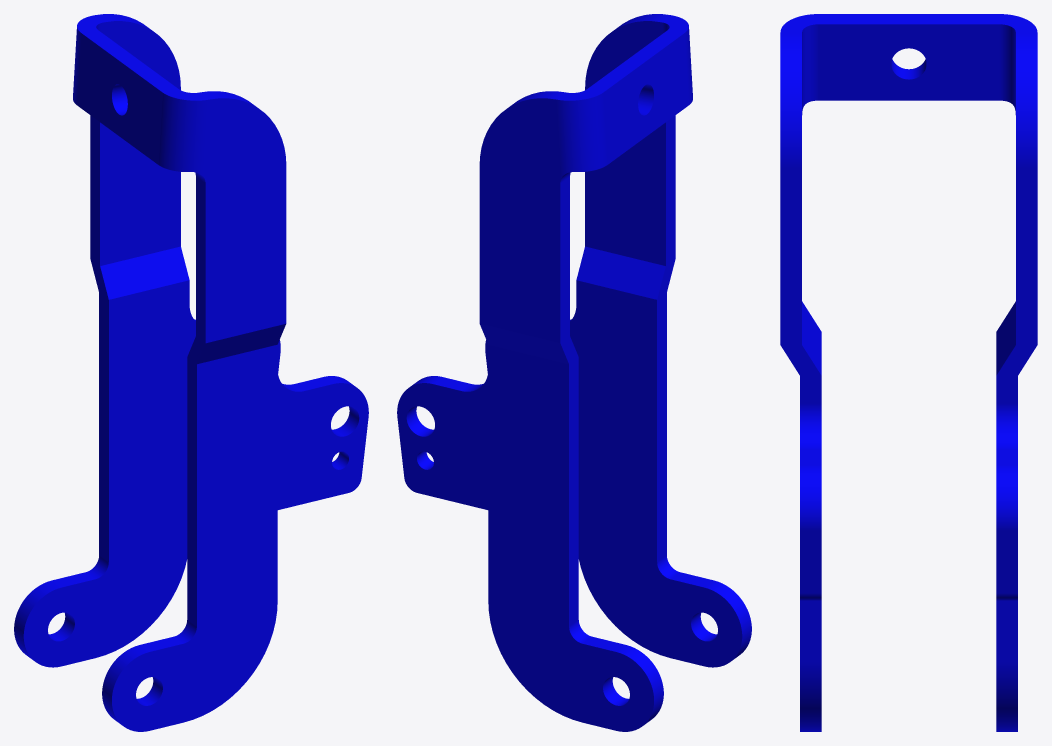
File: CVRTopRetractor.gltf
3 views of the same model, side by side, from view 1: azimuth 30°, elevation 25°; view 2: azimuth 150°, elevation 25°; view 3: azimuth 270°, elevation 25° (orthographic). The views are drawn at different scales.
Parts seen in each view (by area): view 1: 68-0818; view 2: 68-0818; view 3: 68-0818.
Part boxes in pixels (x1,y1,x2,y2): 68-0818: [14, 14, 368, 731]; 68-0818: [397, 14, 751, 731]; 68-0818: [780, 14, 1037, 731].
Bounding box in the file's own units: 0.0303 × 0.0707 × 0.0235.
